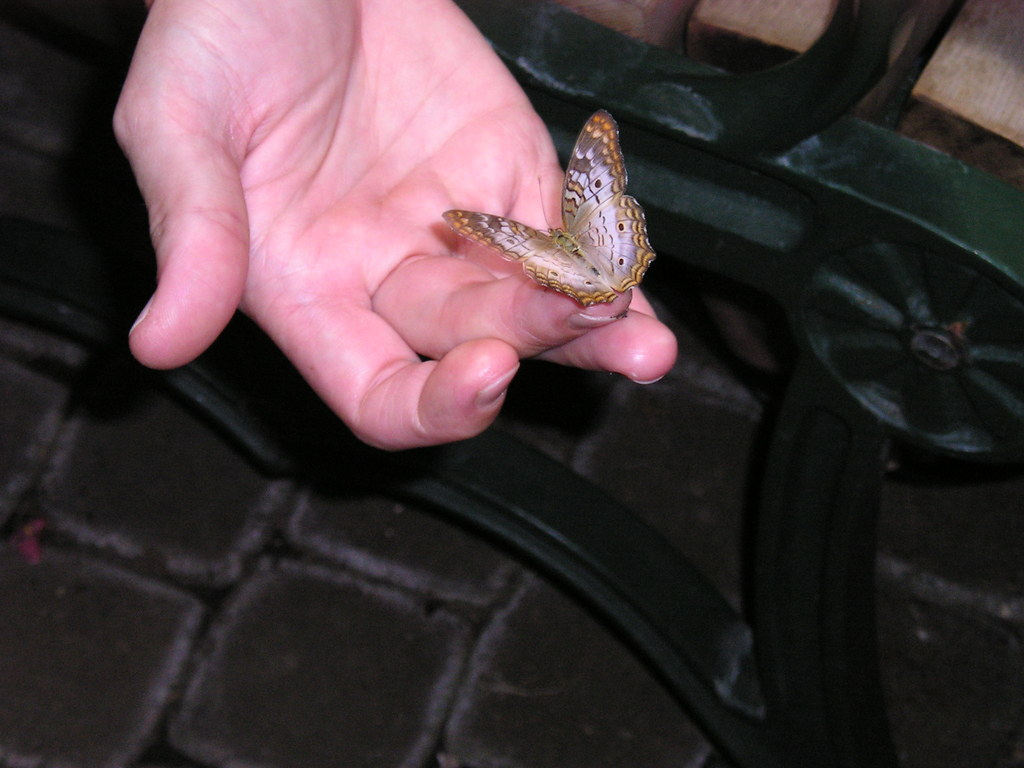Butterfly: (441, 112, 681, 306)
